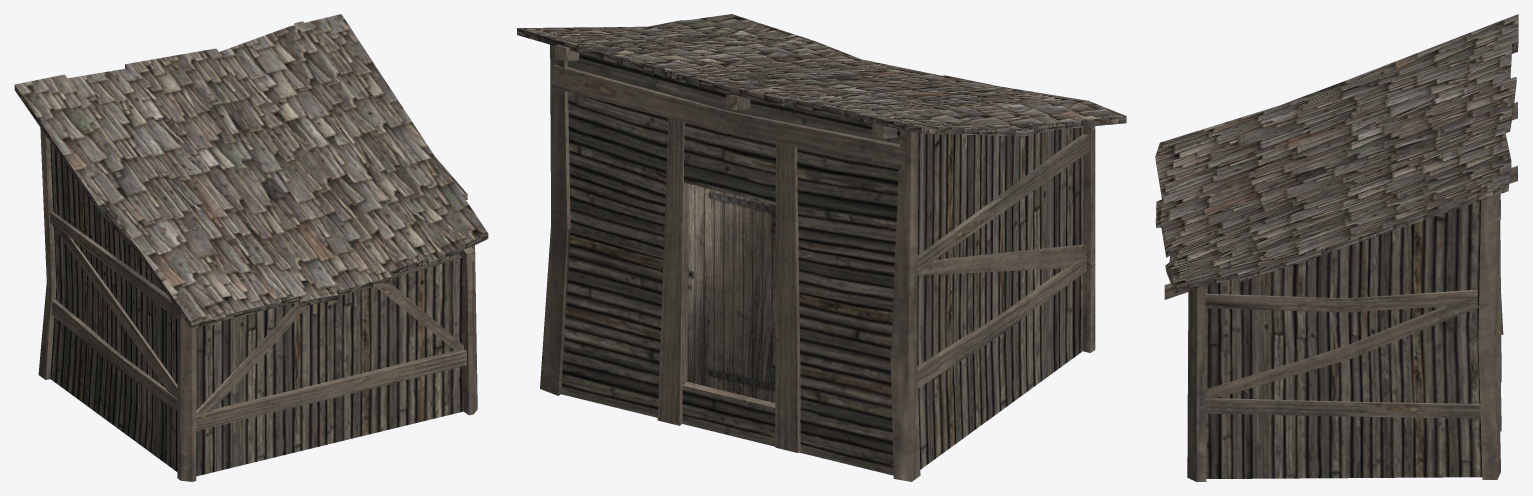
The model's file is d_sg_shouyou_fangzi01_qt.FBX.
The picture shows the model from 3 angles, left to right: view 1: azimuth 30°, elevation 25°; view 2: azimuth 150°, elevation 25°; view 3: azimuth 270°, elevation 25°; orthographic projection. The views are drawn at different scales.
Parts seen in each view (by area): view 1: d_sg_shouyou_fangzi01_qt; view 2: d_sg_shouyou_fangzi01_qt; view 3: d_sg_shouyou_fangzi01_qt.
Part boxes in pixels (x1=…): d_sg_shouyou_fangzi01_qt: x1=14, y1=14, x2=488, y2=481; d_sg_shouyou_fangzi01_qt: x1=517, y1=14, x2=1126, y2=481; d_sg_shouyou_fangzi01_qt: x1=1155, y1=14, x2=1518, y2=481.
Bounding box in the file's own units: 6.75 × 5.8 × 6.22.
